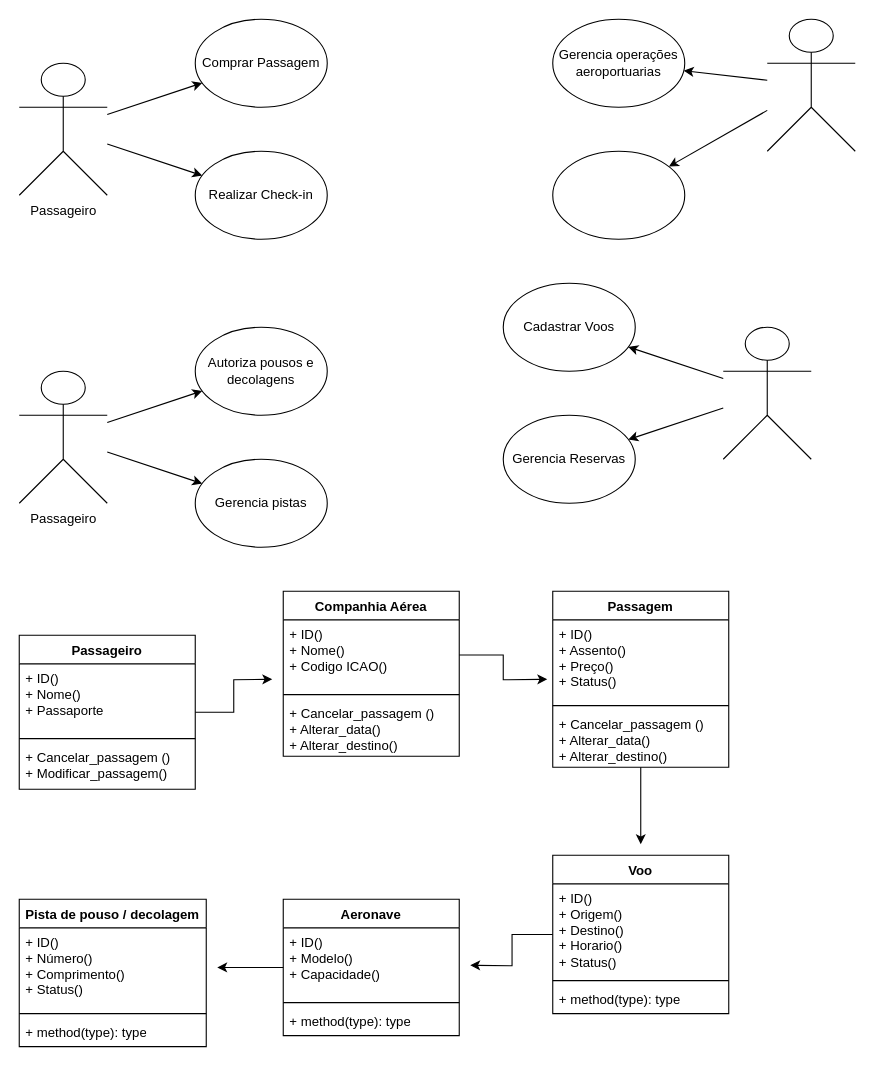
This 875x1069 diagram has some shape labels left out. Each missing label, with the centre of its shape:
Companhia: (x=766, y=392)
Sistema: (x=810, y=84)
